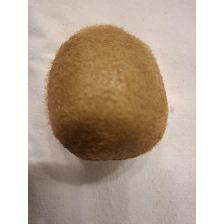Kiwi: (45, 23, 173, 164)
